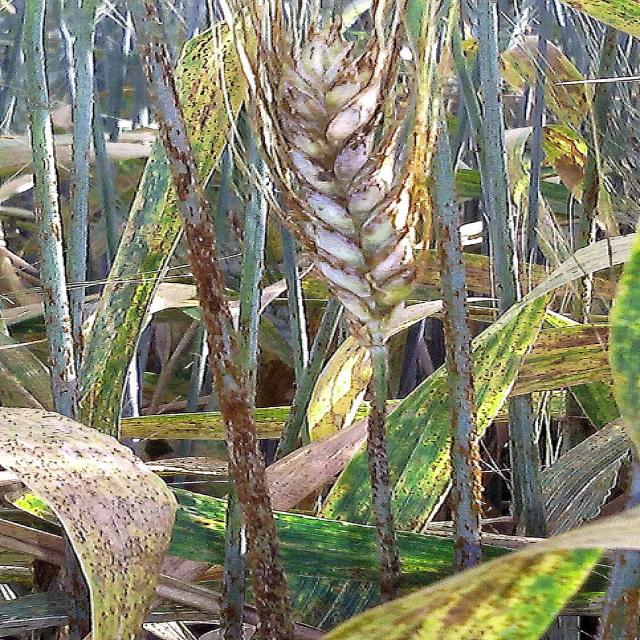wheat-stemrust: (185, 208, 280, 556), (372, 412, 396, 553)
